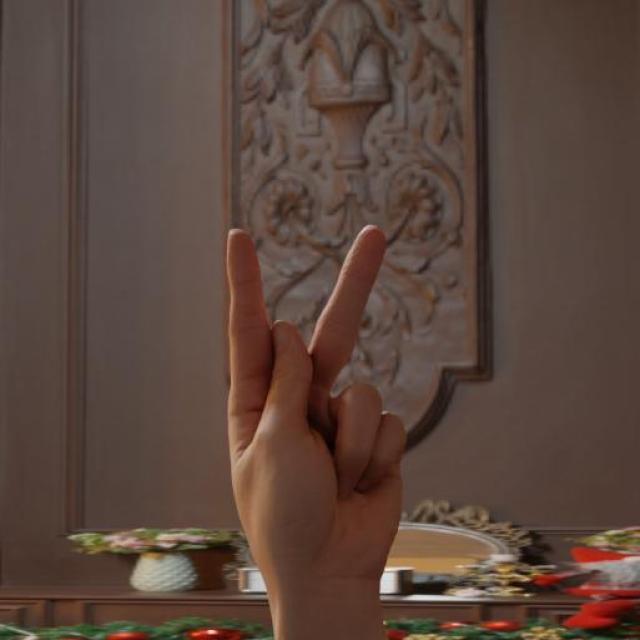K: (218, 219, 411, 585)
